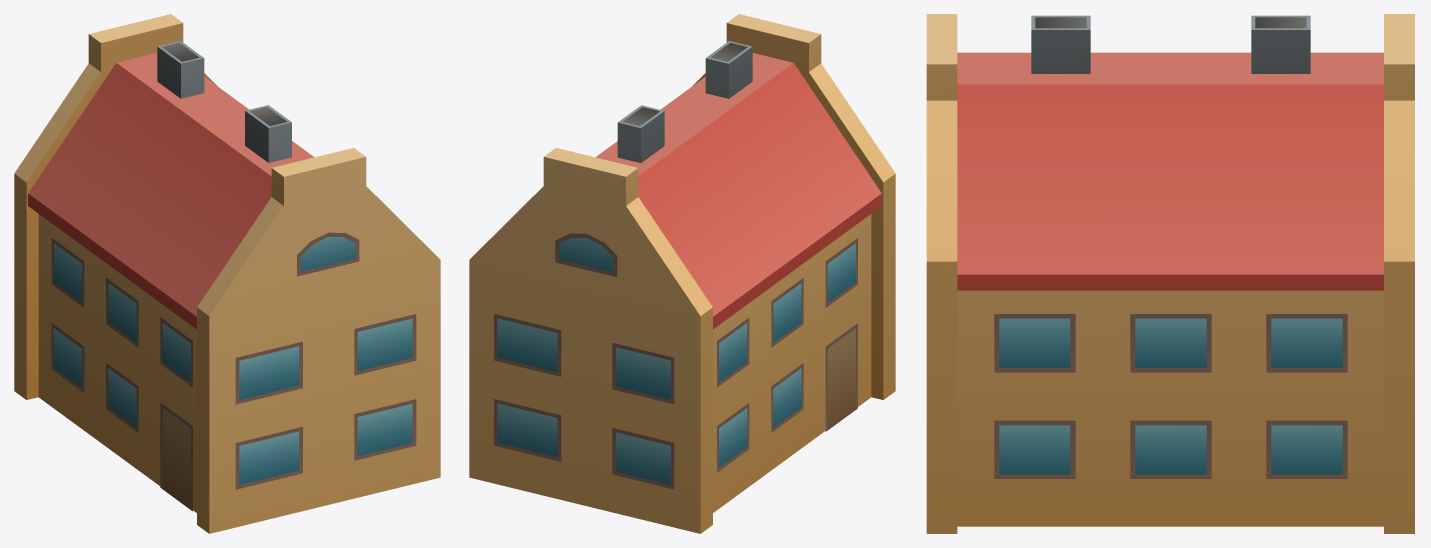
File: House_XL_A.fbx
3 renders of one model, left to right at view 1: azimuth 30°, elevation 25°; view 2: azimuth 150°, elevation 25°; view 3: azimuth 270°, elevation 25°, orthographic. The views are drawn at different scales.
Parts seen in each view (by area): view 1: House_XL_A; view 2: House_XL_A; view 3: House_XL_A.
Boxes of the visible parts, x1,y1,x2,y2 form: House_XL_A: (14,14,440,533); House_XL_A: (469,14,895,533); House_XL_A: (926,14,1414,533).
Size of the model in its own units: 971 by 1406 by 1431.
